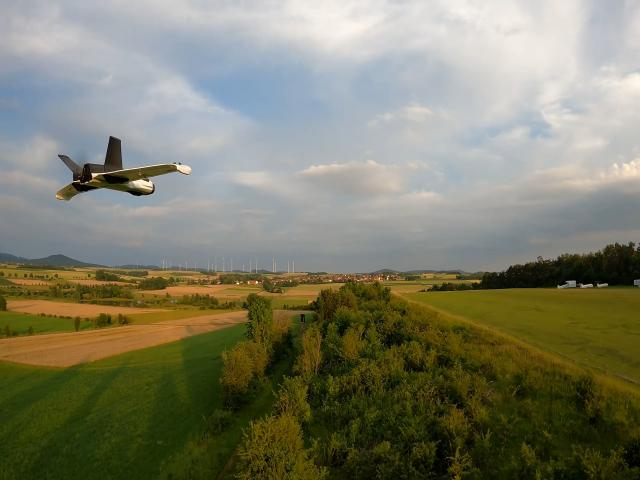plane: (56, 137, 192, 202)
